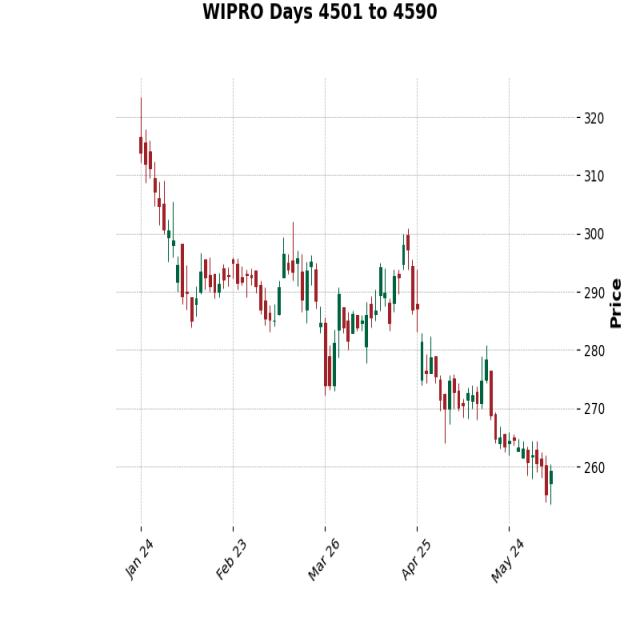Descending Triangle: (396, 237, 558, 518)
